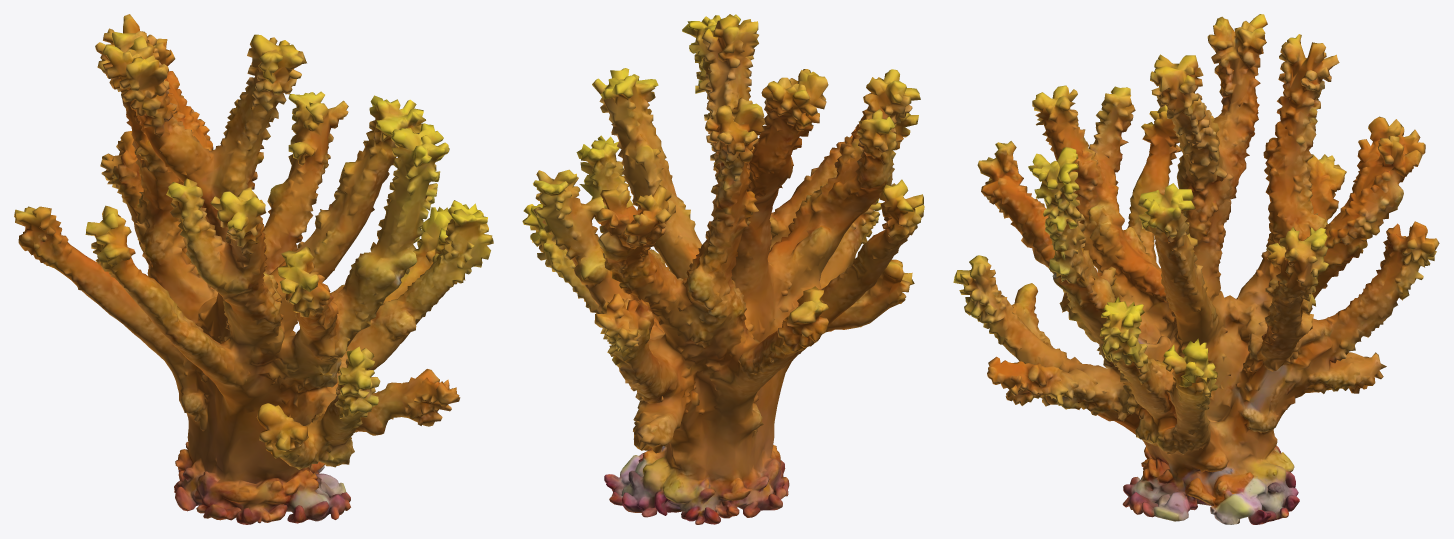
The model's file is coral_staghorn.glb.
3 renders of one model, left to right at view 1: azimuth 30°, elevation 25°; view 2: azimuth 150°, elevation 25°; view 3: azimuth 270°, elevation 25°, orthographic. The views are drawn at different scales.
Visible parts, largest first — view 1: tripo_node_c5bfd5ac-38fd-4c0d-818f-7b570f9197b0; view 2: tripo_node_c5bfd5ac-38fd-4c0d-818f-7b570f9197b0; view 3: tripo_node_c5bfd5ac-38fd-4c0d-818f-7b570f9197b0.
Boxes of the visible parts, left/top/right/bottom form: tripo_node_c5bfd5ac-38fd-4c0d-818f-7b570f9197b0: left=14, top=14, right=493, bottom=524; tripo_node_c5bfd5ac-38fd-4c0d-818f-7b570f9197b0: left=522, top=14, right=924, bottom=524; tripo_node_c5bfd5ac-38fd-4c0d-818f-7b570f9197b0: left=953, top=14, right=1439, bottom=524.
Size of the model in its own units: 0.8548 by 0.9805 by 1.
Materials: 1 (1 with a texture image).
